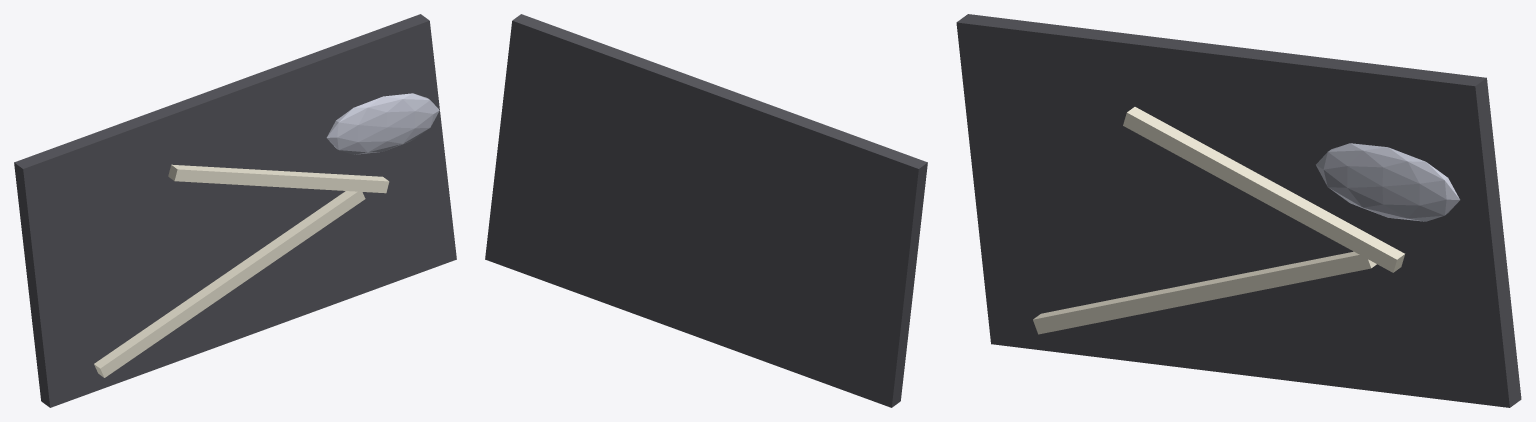
File: 01_weathering_wear_overlay_1.glb
The picture shows the model from 3 angles, left to right: view 1: azimuth 30°, elevation 25°; view 2: azimuth 150°, elevation 25°; view 3: azimuth 330°, elevation 25°; orthographic projection. The views are drawn at different scales.
Visible parts, largest first — view 1: wear_plate, scratch_a, rust_or_moss_spot, scratch_b; view 2: wear_plate; view 3: wear_plate, rust_or_moss_spot, scratch_b, scratch_a.
Part boxes in pixels (x1,y1,x2,y2): wear_plate: (14, 14, 456, 407); scratch_a: (94, 191, 365, 377); rust_or_moss_spot: (326, 93, 439, 154); scratch_b: (168, 164, 389, 193); wear_plate: (485, 14, 927, 407); wear_plate: (956, 14, 1521, 407); rust_or_moss_spot: (1316, 143, 1459, 221); scratch_b: (1123, 107, 1404, 272); scratch_a: (1033, 251, 1376, 334).
Bounding box in the file's own units: 1.38 × 0.8944 × 0.134.
